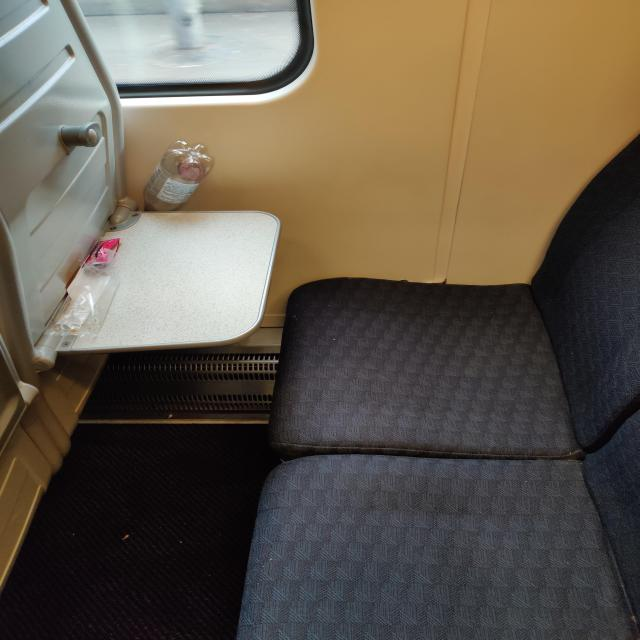litter: (45, 238, 127, 340)
